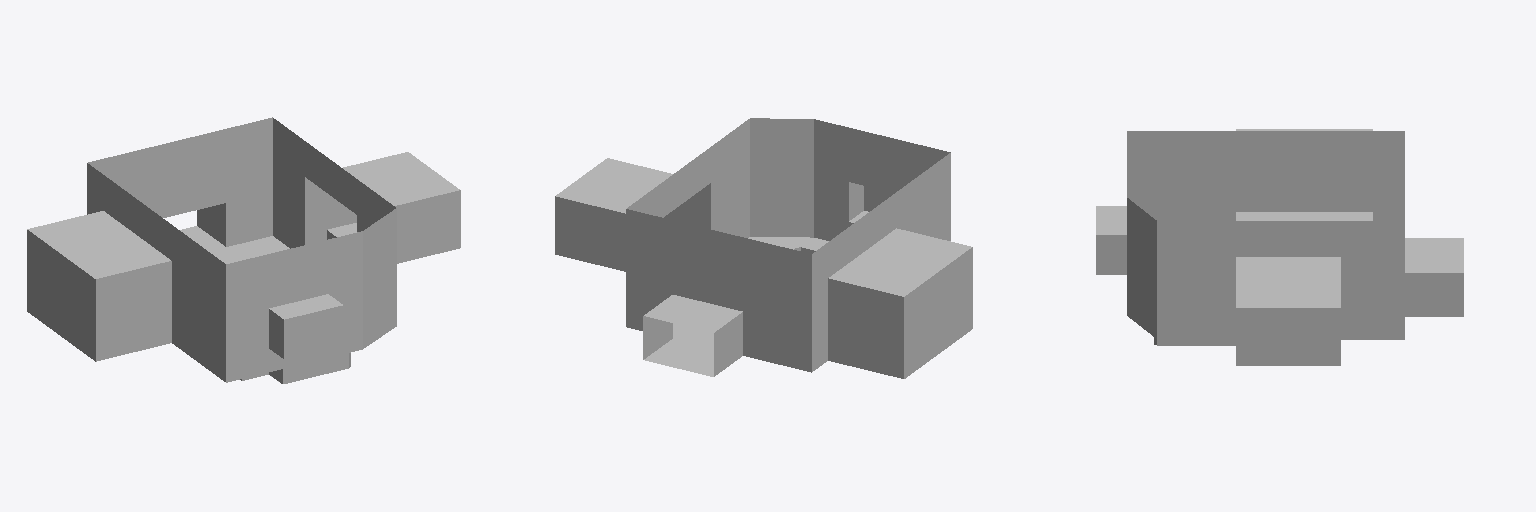
Rendered from maplevel.obj.
3 views of the same model, side by side, from view 1: azimuth 30°, elevation 25°; view 2: azimuth 150°, elevation 25°; view 3: azimuth 270°, elevation 25° (orthographic).
Visible parts, largest first — view 1: Cube_Cube.003; view 2: Cube_Cube.003; view 3: Cube_Cube.003.
Part boxes in pixels (x1,y1,x2,y2): Cube_Cube.003: (27, 117, 460, 383); Cube_Cube.003: (555, 118, 972, 378); Cube_Cube.003: (1096, 129, 1463, 365).
Bounding box in the file's own units: 26.76 × 10.3 × 23.31.